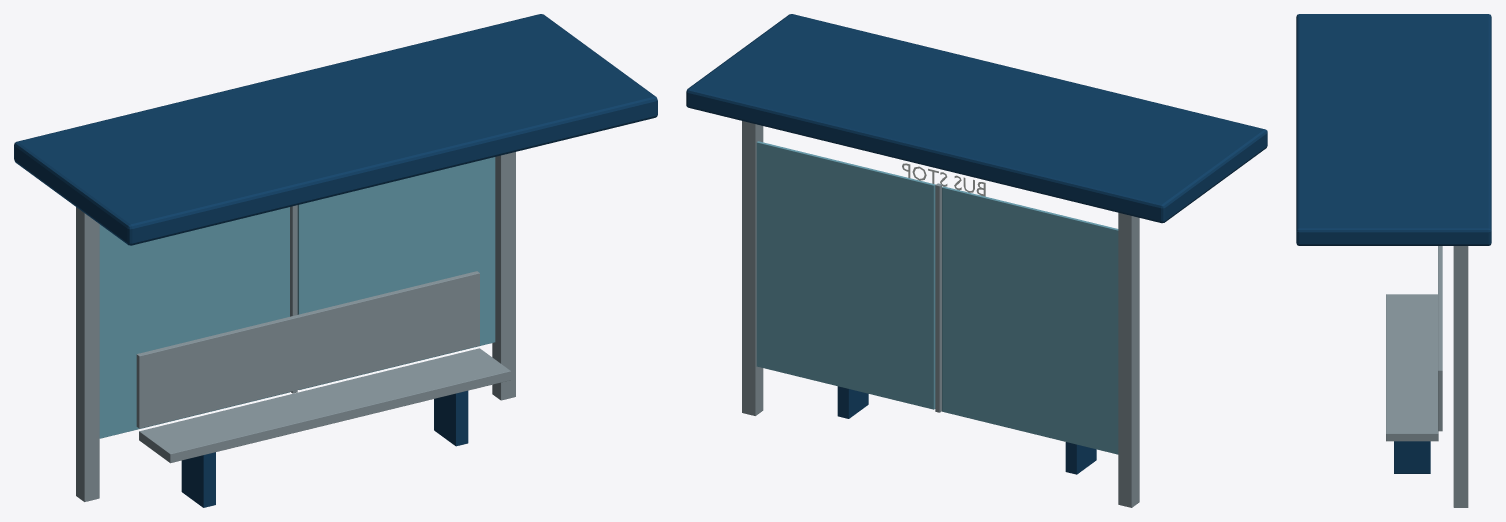
The picture shows the model from 3 angles, left to right: view 1: azimuth 30°, elevation 25°; view 2: azimuth 150°, elevation 25°; view 3: azimuth 270°, elevation 25°; orthographic projection. The views are drawn at different scales.
Parts seen in each view (by area): view 1: CANOPY, BENCH_Back, WINDSCREEN_Panel, WINDSCREEN_Panel.001, BENCH_Seat, POST, POST.001, BENCH_Leg, BENCH_Leg.001, WINDSCREEN_Frame.001; view 2: CANOPY, WINDSCREEN_Panel.001, WINDSCREEN_Panel, POST, POST.001, WINDSCREEN_Frame.001, BENCH_Leg.001, BENCH_Leg; view 3: CANOPY, BENCH_Seat, POST.001, BENCH_Leg, BENCH_Back.
Boxes of the visible parts, bbox=[...] form: CANOPY: bbox=[14, 14, 657, 245]; BENCH_Back: bbox=[136, 271, 479, 428]; WINDSCREEN_Panel: bbox=[99, 207, 289, 438]; WINDSCREEN_Panel.001: bbox=[297, 157, 495, 389]; BENCH_Seat: bbox=[139, 348, 510, 463]; POST: bbox=[76, 207, 99, 501]; POST.001: bbox=[492, 152, 515, 400]; BENCH_Leg: bbox=[434, 390, 468, 446]; BENCH_Leg.001: bbox=[181, 452, 215, 507]; WINDSCREEN_Frame.001: bbox=[290, 205, 297, 393]; CANOPY: bbox=[686, 14, 1267, 223]; WINDSCREEN_Panel.001: bbox=[756, 141, 935, 409]; WINDSCREEN_Panel: bbox=[942, 186, 1118, 454]; POST: bbox=[1118, 212, 1139, 507]; POST.001: bbox=[742, 121, 763, 415]; WINDSCREEN_Frame.001: bbox=[935, 183, 942, 412]; BENCH_Leg.001: bbox=[1065, 442, 1096, 474]; BENCH_Leg: bbox=[837, 386, 868, 418]; CANOPY: bbox=[1296, 14, 1491, 245]; BENCH_Seat: bbox=[1386, 294, 1438, 441]; POST.001: bbox=[1453, 246, 1468, 507]; BENCH_Leg: bbox=[1394, 441, 1430, 473]; BENCH_Back: bbox=[1438, 246, 1442, 431].
Size of the model in its own units: 4.2 by 2.7 by 1.6.
